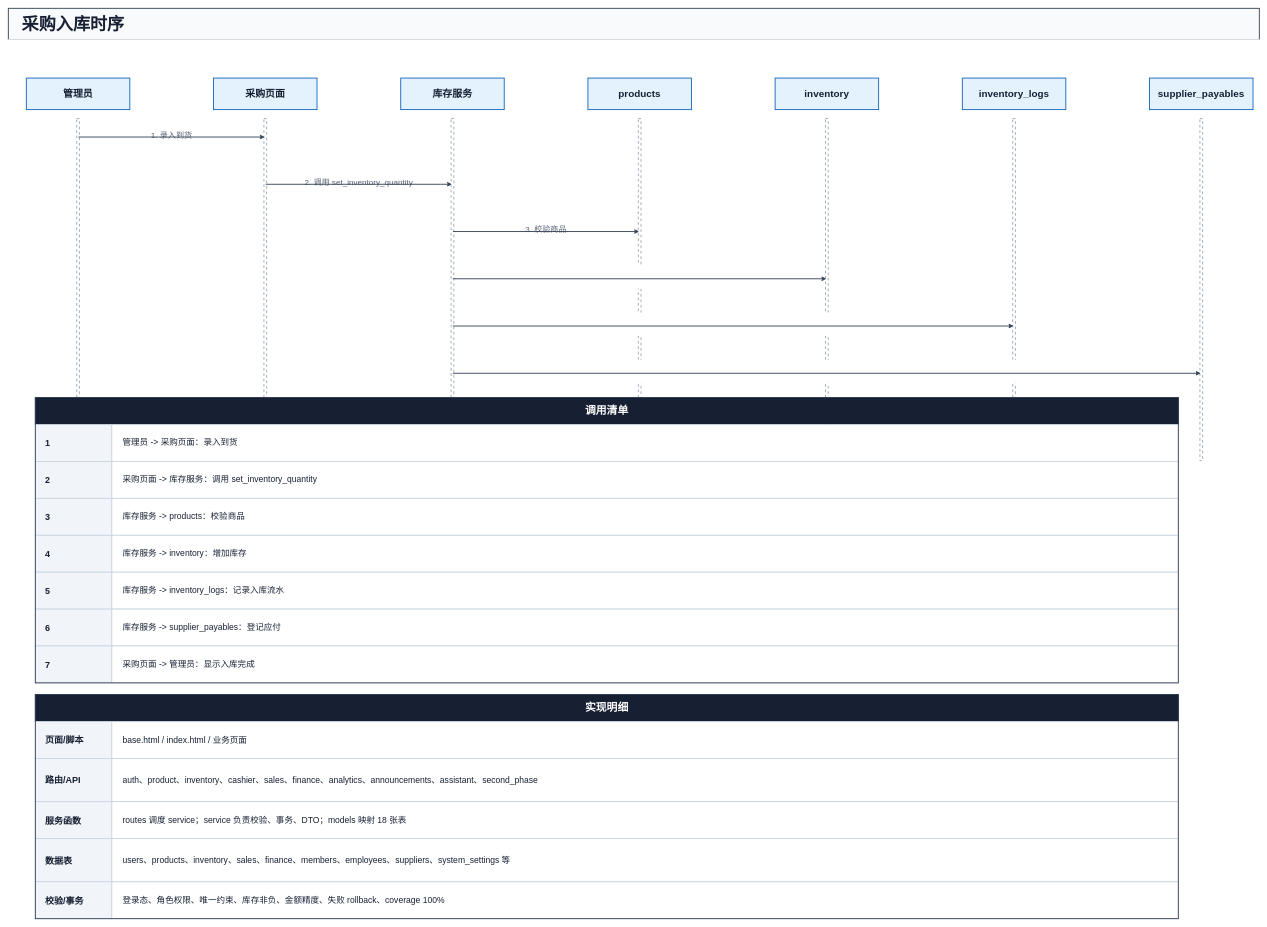
The diagram is 1267 pixels wide and 927 high, and some of its shapes have lost their labels. Each missing label, with the centre of its shape:
4. 增加库存: the point at 639,276
5. 记录入库流水: the point at 733,324
6. 登记应付: the point at 826,371
时序图｜参与者、调用顺序、落表与返回值: the point at 634,48
